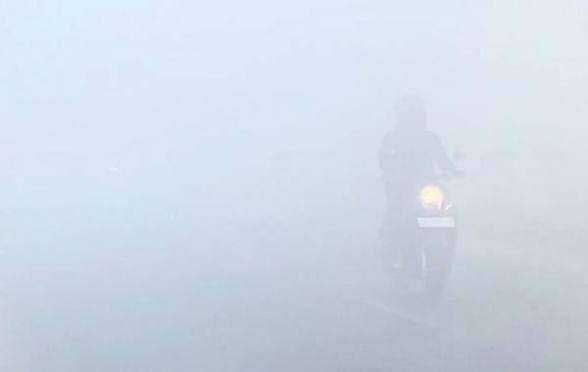Deteksi-Objek-Citra-Berasap: (0, 0, 587, 371)
Kendaraan: (390, 151, 466, 303)
Manusia: (378, 96, 456, 261)
